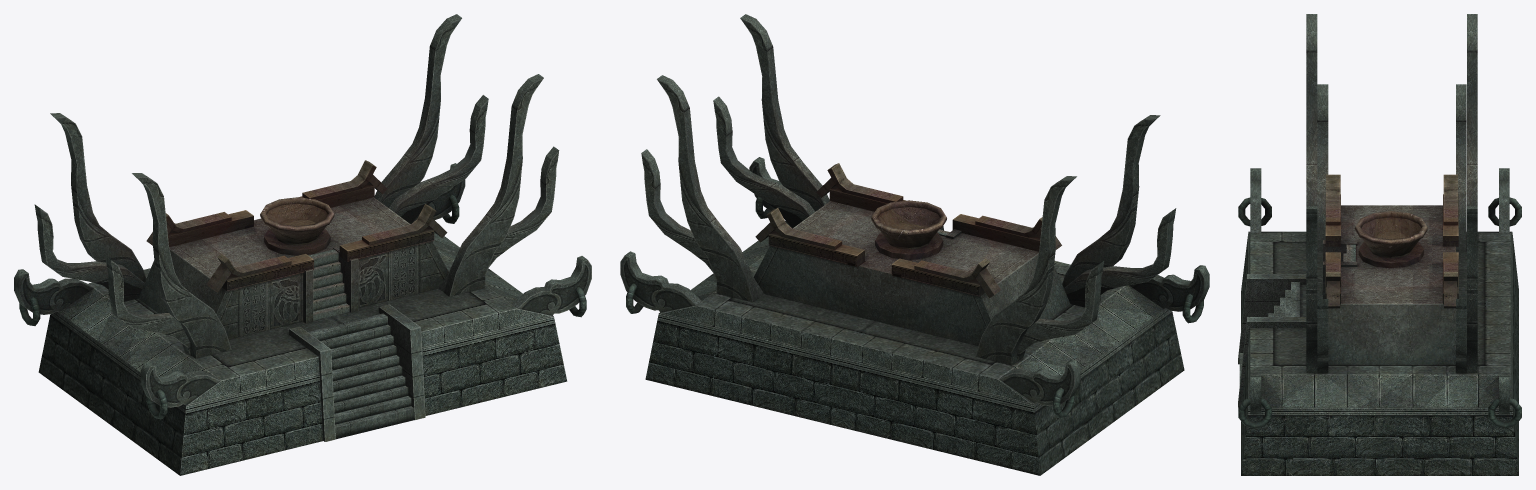
File: main_altar_001.fbx
3 renders of one model, left to right at view 1: azimuth 30°, elevation 25°; view 2: azimuth 150°, elevation 25°; view 3: azimuth 270°, elevation 25°, orthographic. The views are drawn at different scales.
Parts seen in each view (by area): view 1: main_altar_001; view 2: main_altar_001; view 3: main_altar_001.
Part boxes in pixels (<box>): main_altar_001: <box>14,14,591,475</box>; main_altar_001: <box>620,14,1209,475</box>; main_altar_001: <box>1238,14,1521,475</box>.
Size of the model in its own units: 15.16 by 8.96 by 8.46.
